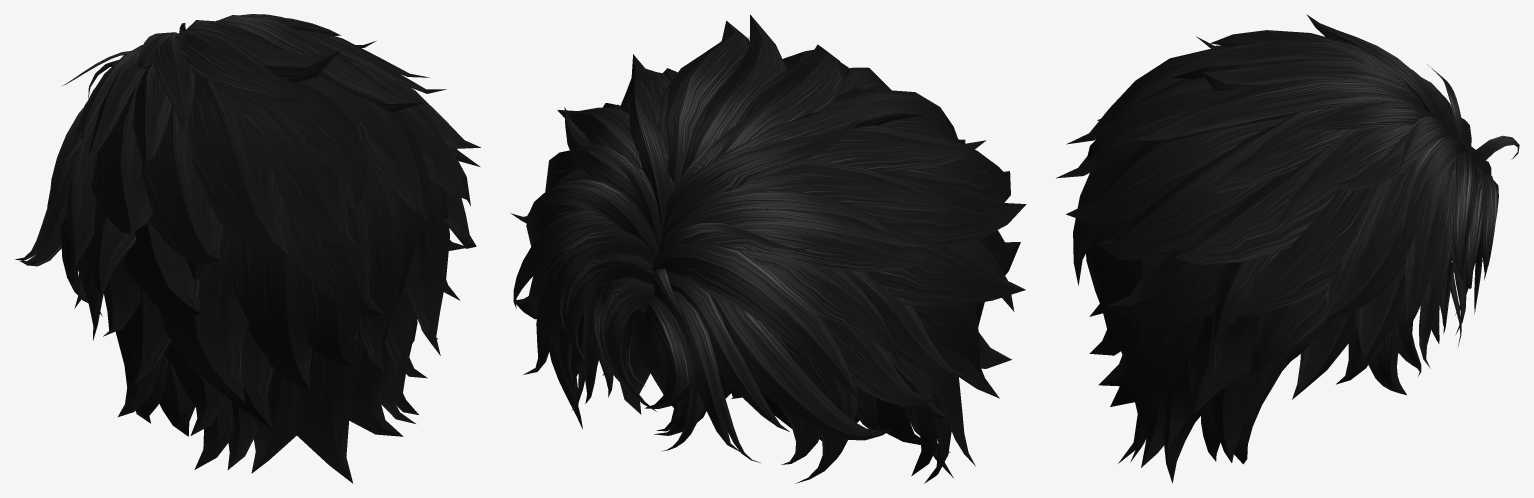
Rendered from 10-Black-Messy-Wolfcut-98528599025378.glb.
3 renders of one model, left to right at view 1: azimuth 30°, elevation 25°; view 2: azimuth 150°, elevation 25°; view 3: azimuth 270°, elevation 25°, orthographic. The views are drawn at different scales.
Visible parts, largest first — view 1: Black-Messy-Wolfcut; view 2: Black-Messy-Wolfcut; view 3: Black-Messy-Wolfcut.
Part boxes in pixels (x1,y1,x2,y2): Black-Messy-Wolfcut: (14,14,480,483); Black-Messy-Wolfcut: (510,14,1026,483); Black-Messy-Wolfcut: (1056,14,1519,483).
Size of the model in its own units: 1.99 by 1.86 by 1.92.
1 material, 1 textured.
